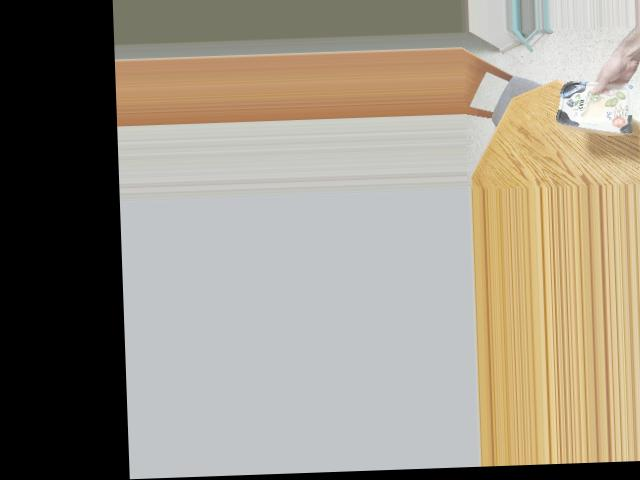cheese: (560, 69, 624, 134)
